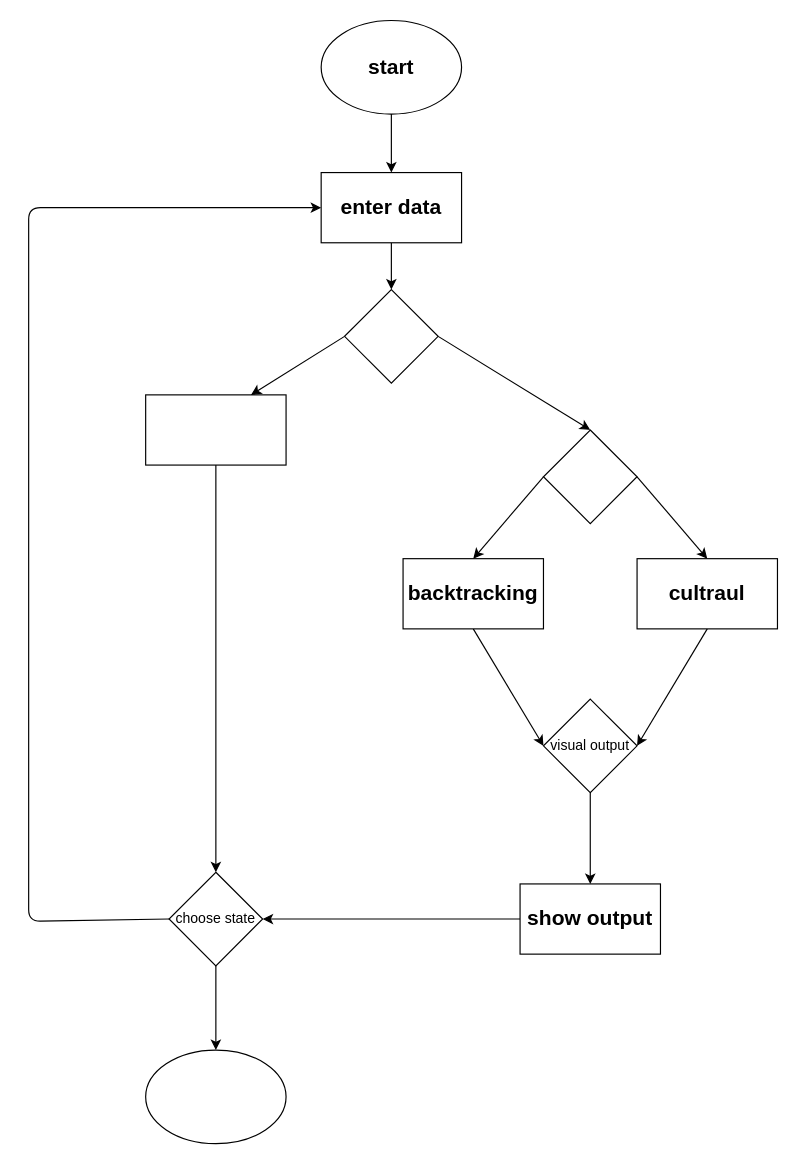
Image size: 798x1164. Some labels were removed from this diagram. Here are the shapes that lost their labels. From the top down, the box of each, then its label:
(343, 288, 438, 383): choose
(144, 394, 286, 465): compare
(542, 429, 637, 524): choose algo
(144, 1049, 286, 1144): end
